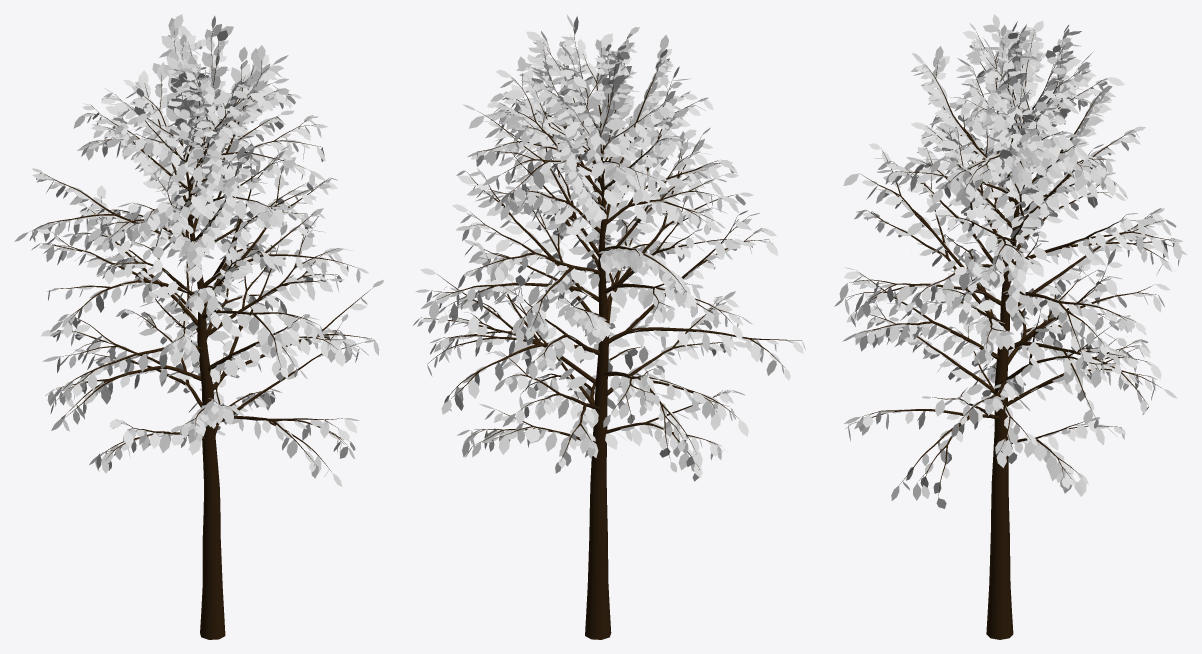
File: treewu1.glb
3 renders of one model, left to right at view 1: azimuth 30°, elevation 25°; view 2: azimuth 150°, elevation 25°; view 3: azimuth 270°, elevation 25°, orthographic. The views are drawn at different scales.
Visible parts, largest first — view 1: leaves, tree; view 2: leaves, tree; view 3: leaves, tree.
Boxes of the visible parts, x1,y1,x2,y2 form: leaves: (14,14,383,486); tree: (30,29,373,639); leaves: (413,14,805,481); tree: (421,30,801,639); leaves: (834,14,1186,508); tree: (846,30,1175,639).
Size of what is drawn, in the model's own units: 9.84 by 16.21 by 8.47.
